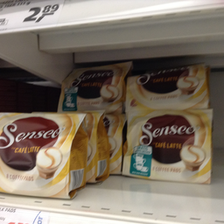coffee: (1, 111, 88, 200), (124, 108, 213, 185), (125, 62, 211, 110), (58, 61, 129, 110)
